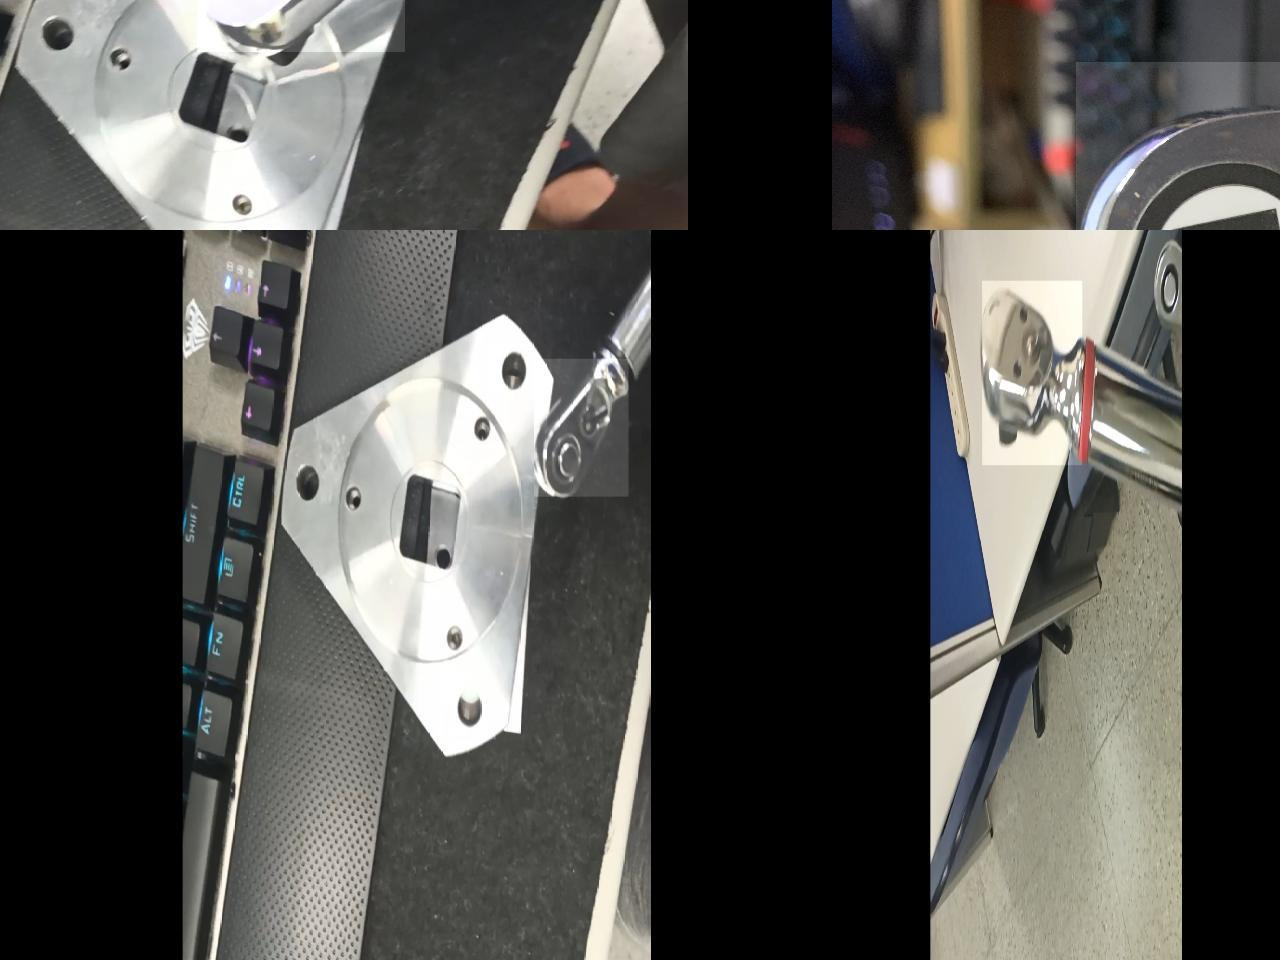Tool: (1075, 62, 1280, 230), (982, 280, 1082, 466), (533, 359, 628, 496), (196, 0, 404, 52)
